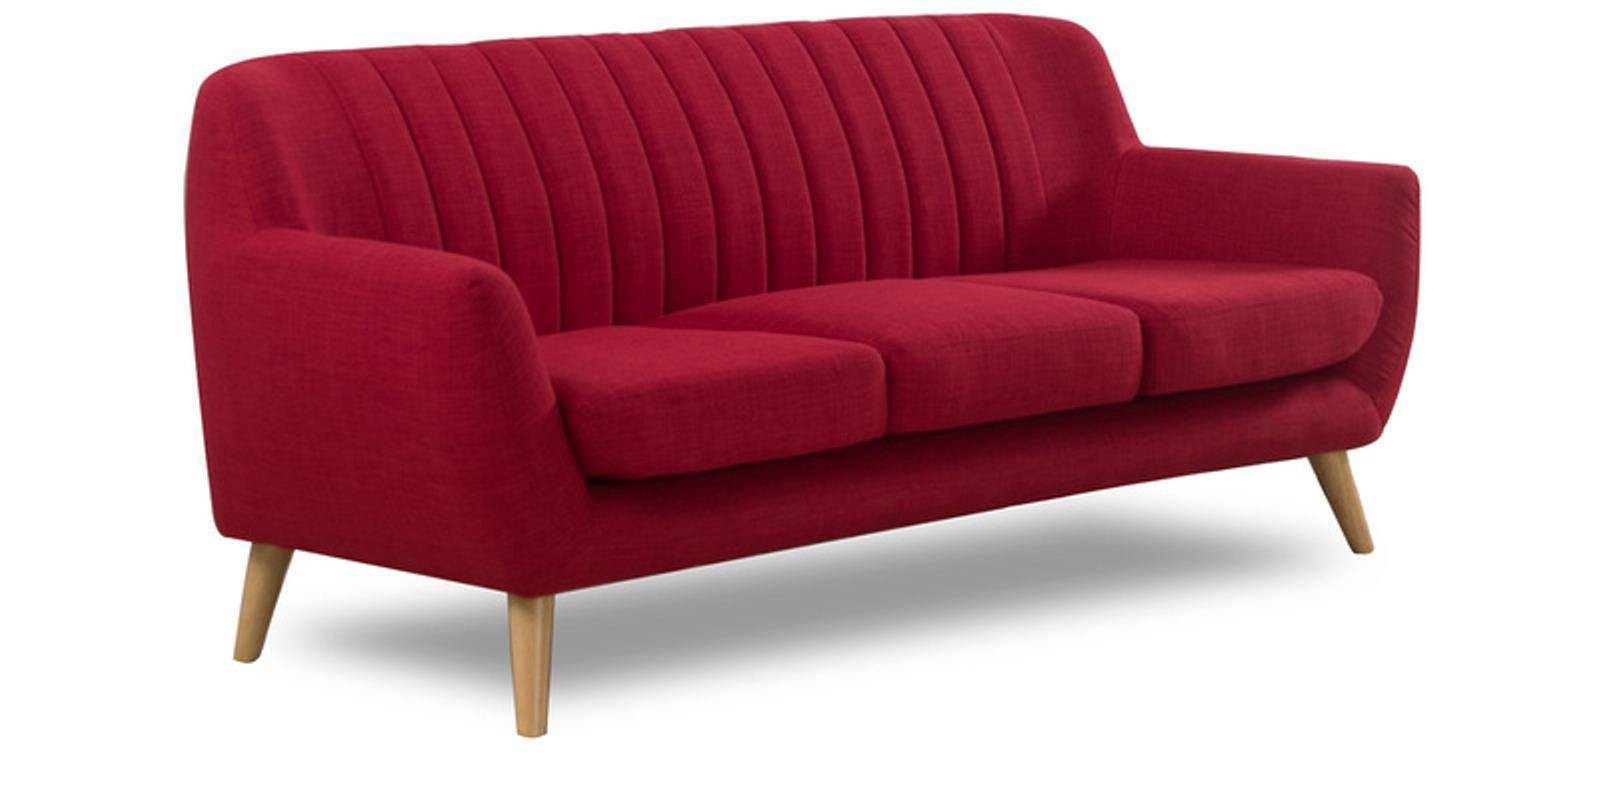Managua Three Seater Sofa in Red Colour by CasaCraft: (182, 9, 1421, 739)
